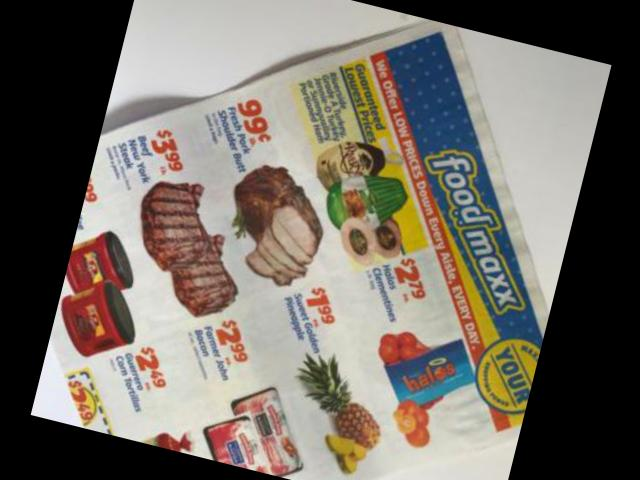cardboard paper: (48, 20, 544, 480)
